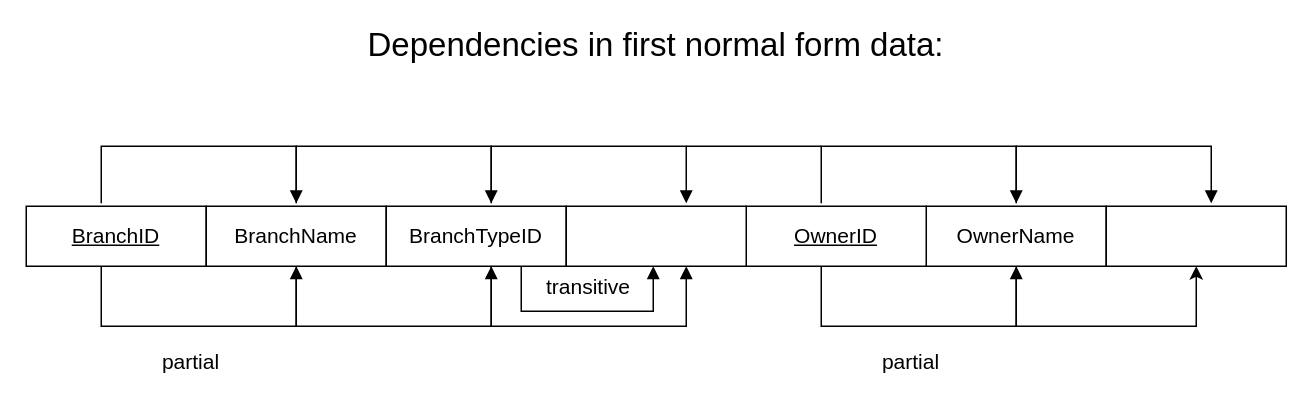
Some shapes in this 1313 by 405 pixel diagram are drawn without their labels. Here are the shapes that lost their labels. From the top down, the box of each, then its label:
(565, 205, 746, 266): BranchType
(1105, 205, 1286, 266): OwnerEmail
